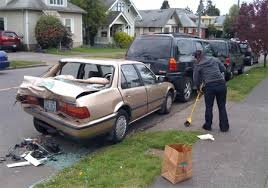Broken-glass: (55, 61, 114, 82)
Dent: (19, 75, 85, 126)
